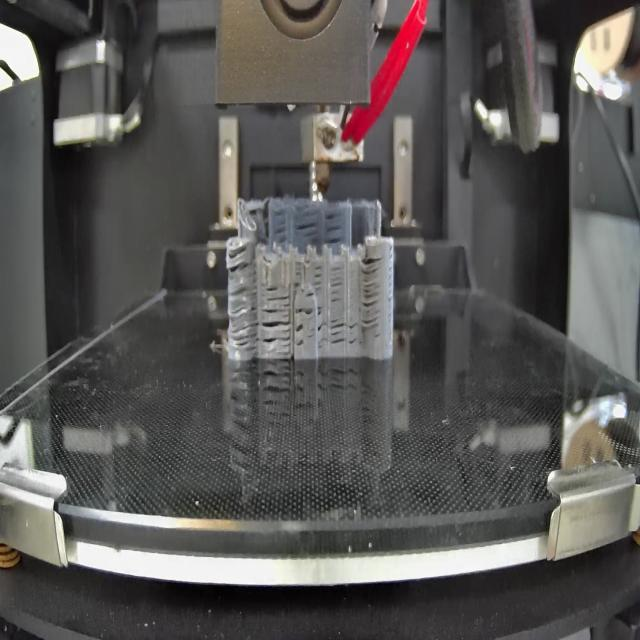cracks: (360, 254, 383, 336), (229, 284, 258, 348), (264, 307, 290, 351), (319, 321, 357, 347), (225, 242, 252, 275), (296, 212, 321, 245), (324, 210, 346, 245), (328, 264, 344, 304), (266, 281, 292, 303), (296, 302, 324, 318), (275, 210, 288, 244), (292, 258, 303, 288), (312, 266, 324, 289), (296, 322, 306, 348), (246, 206, 261, 222), (302, 292, 317, 299)
